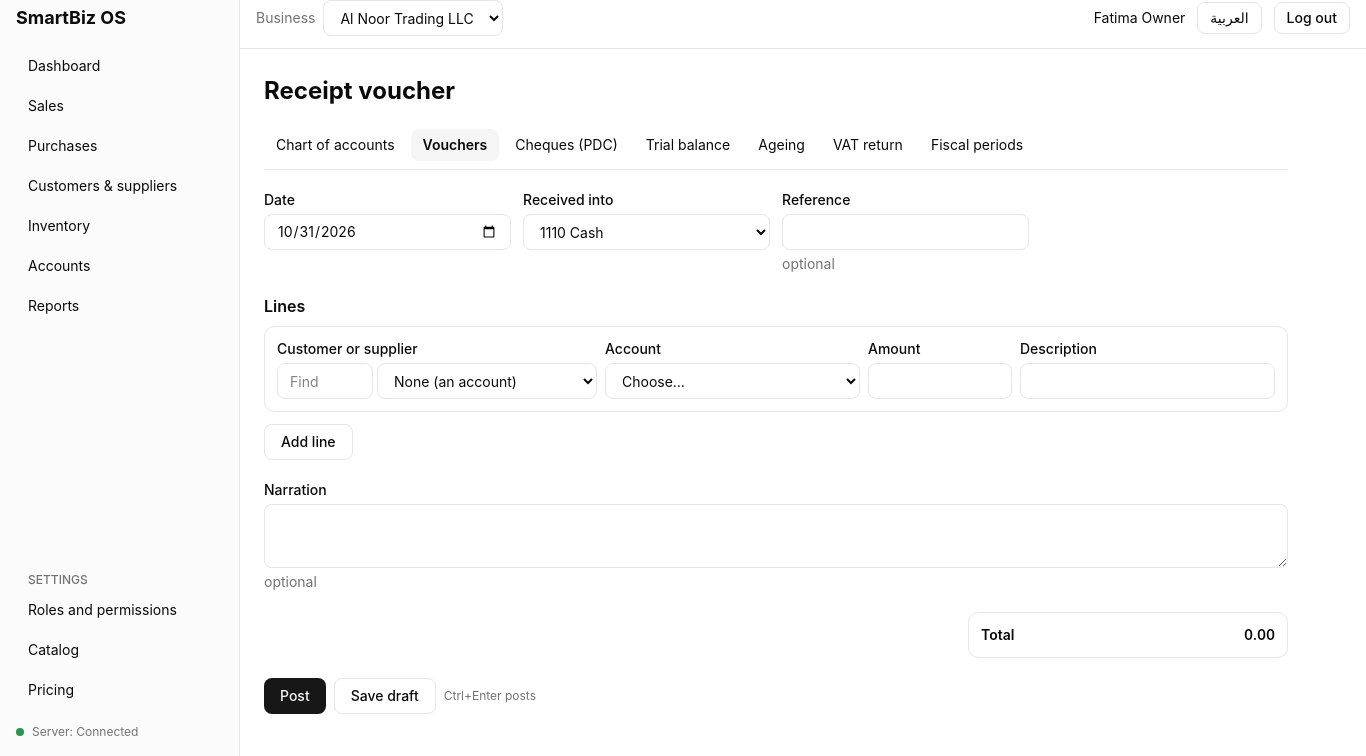
Test: Accounts screens › asks why before posting into a locked month, then posts the draft with the reason
Select "C0001 Ali Traders" in the dropdown labelled "Customer or supplier" at (487, 381), box [377,363,597,399]
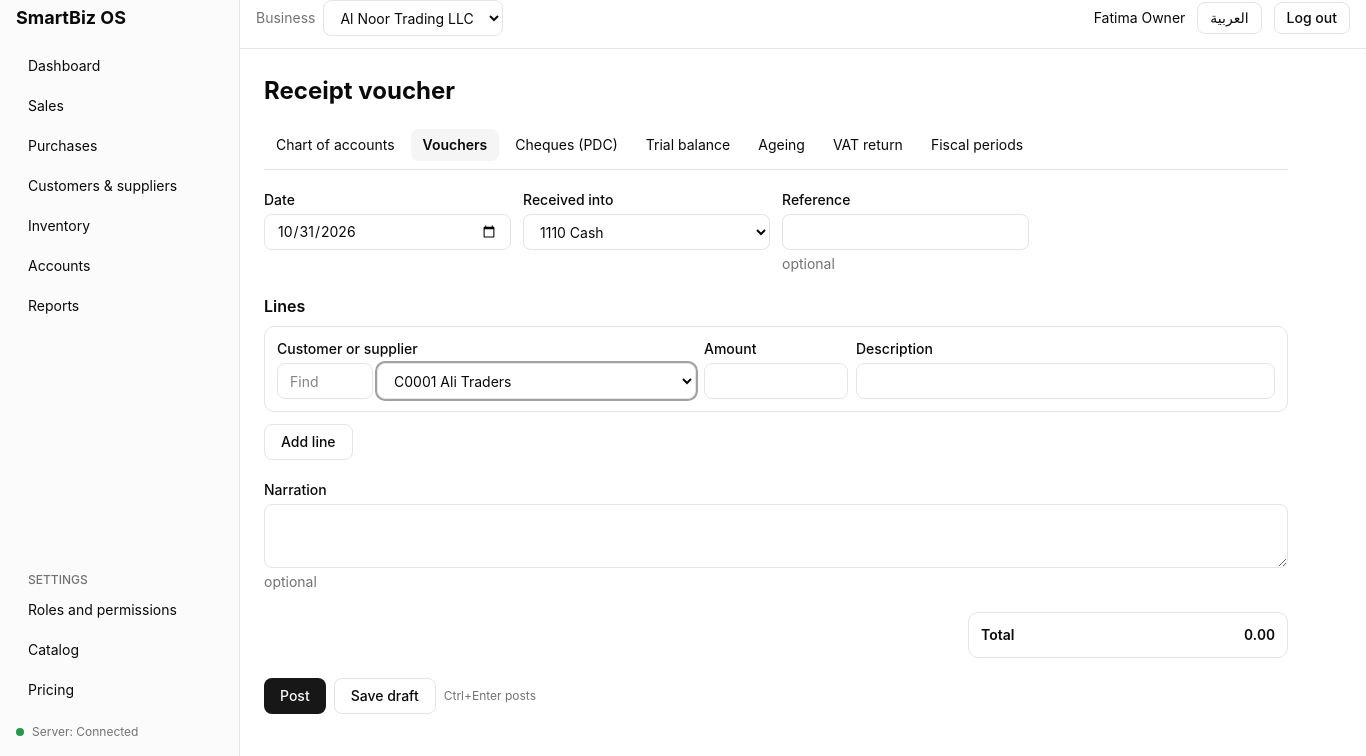
Type "50" into the field labelled "Amount".
click(776, 381); type("50")  # box [704,363,848,399]
(page scrolled)
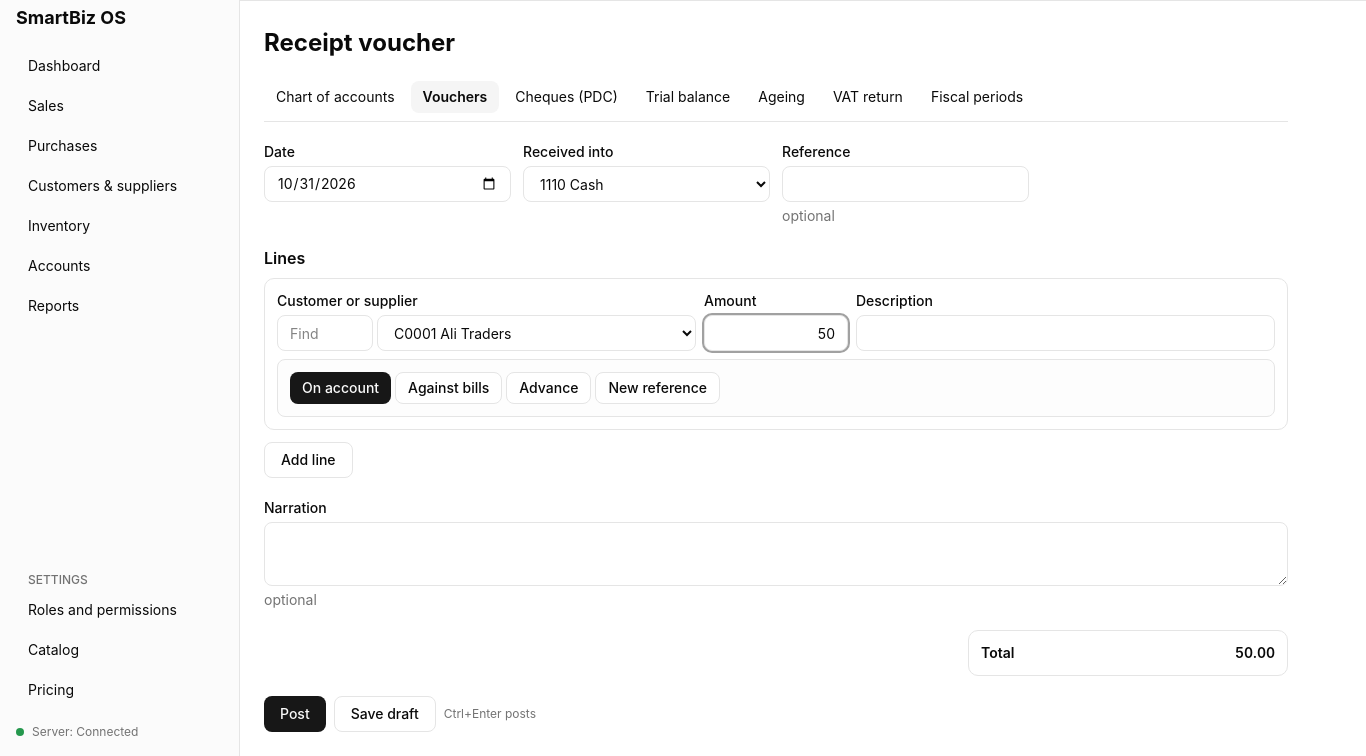
Click the button "Post".
click(295, 714)  # box [264,696,326,732]
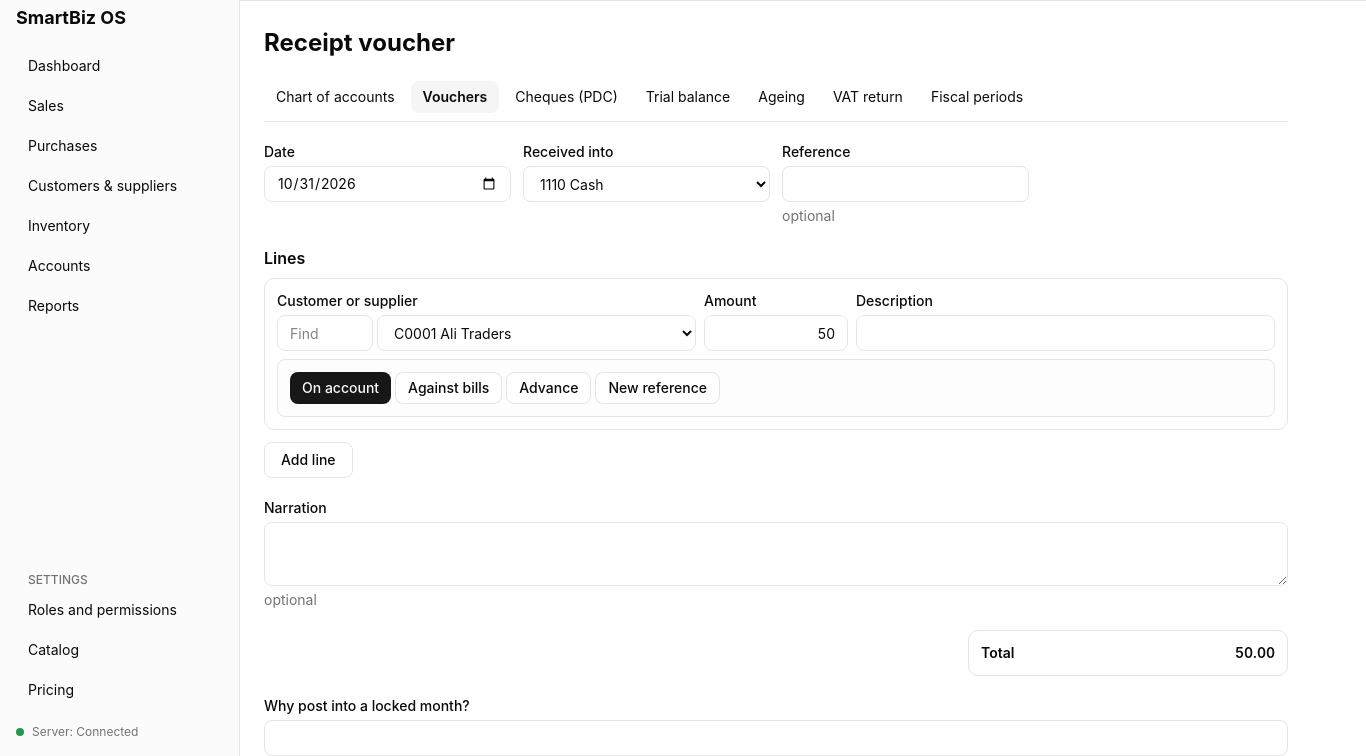
Type "late bank slip" into the field labelled "Why post into a locked month?".
click(776, 738); type("late bank slip")  # box [264,720,1288,755]
(page scrolled)
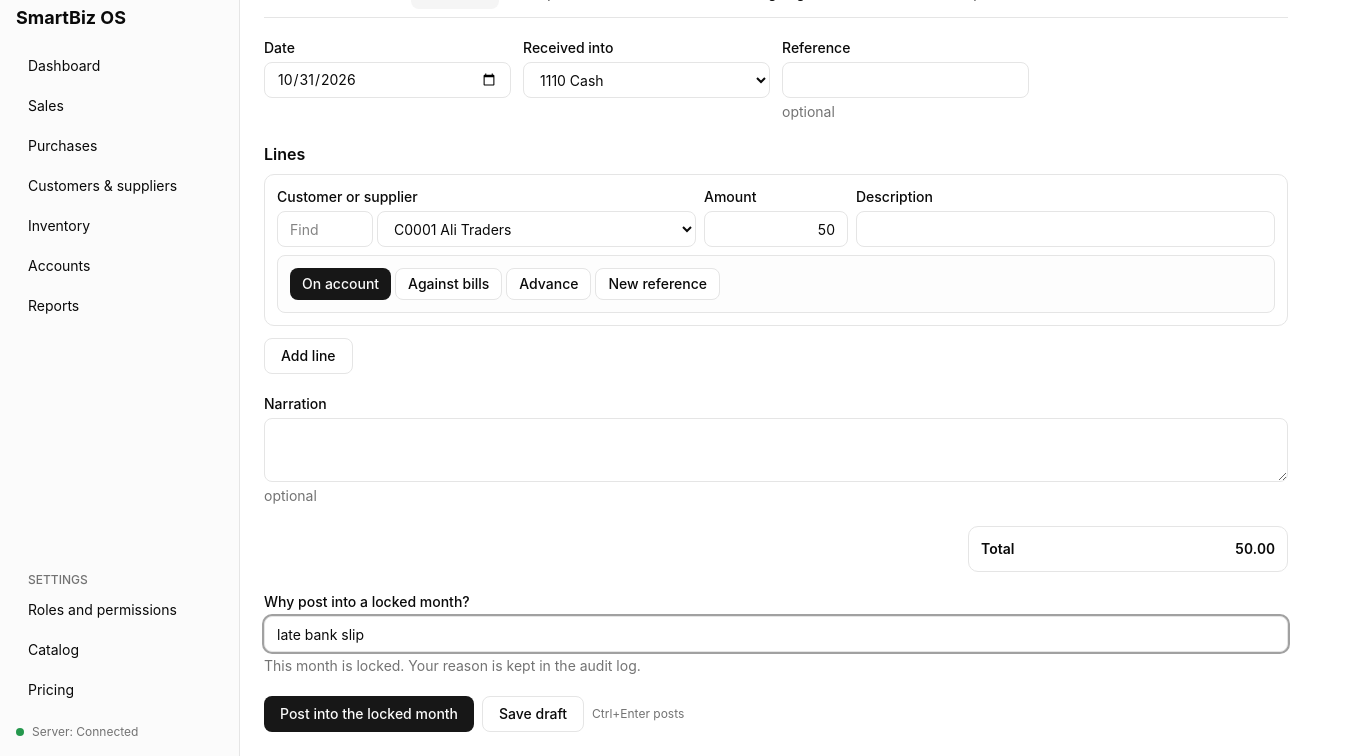
Click the button "Post into the locked month".
click(369, 714)  # box [264,696,474,732]
(page scrolled)
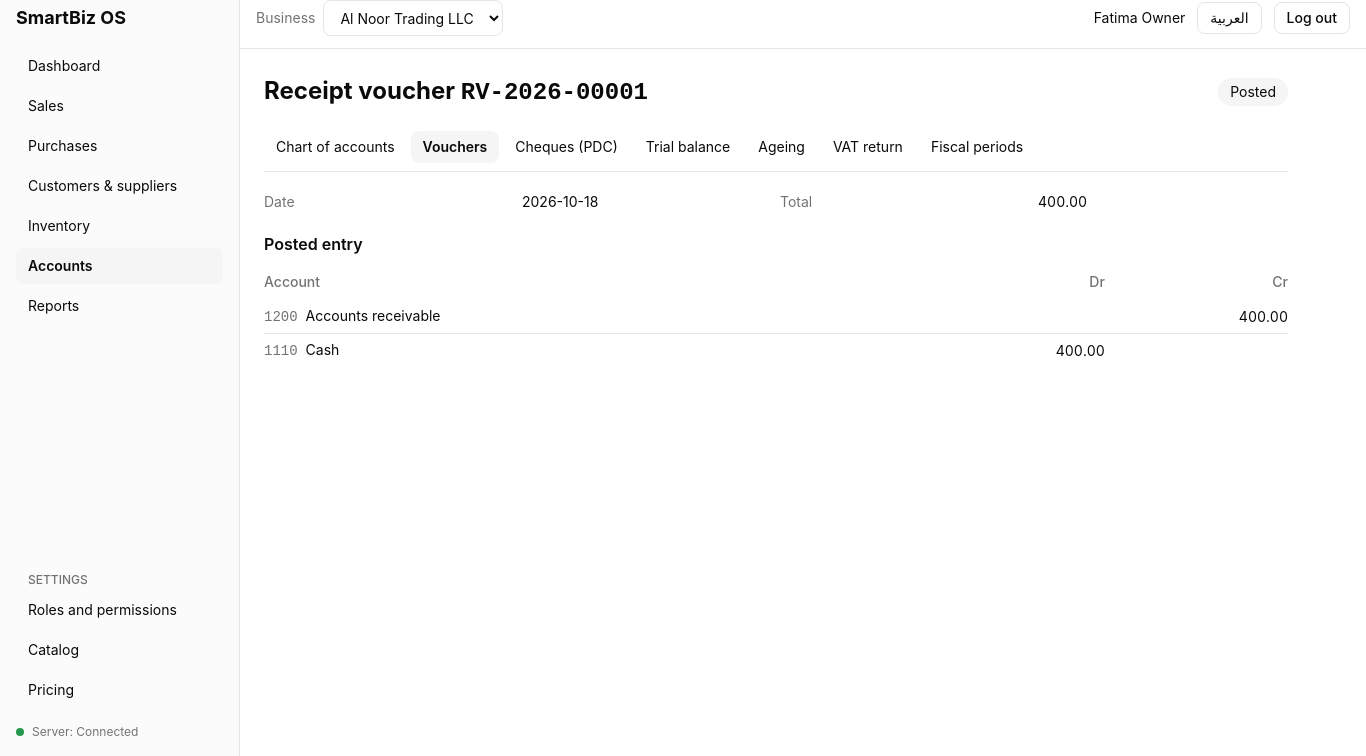
expect the text "RV-2026-00001" is shown: met, box [461,79,648,106]
